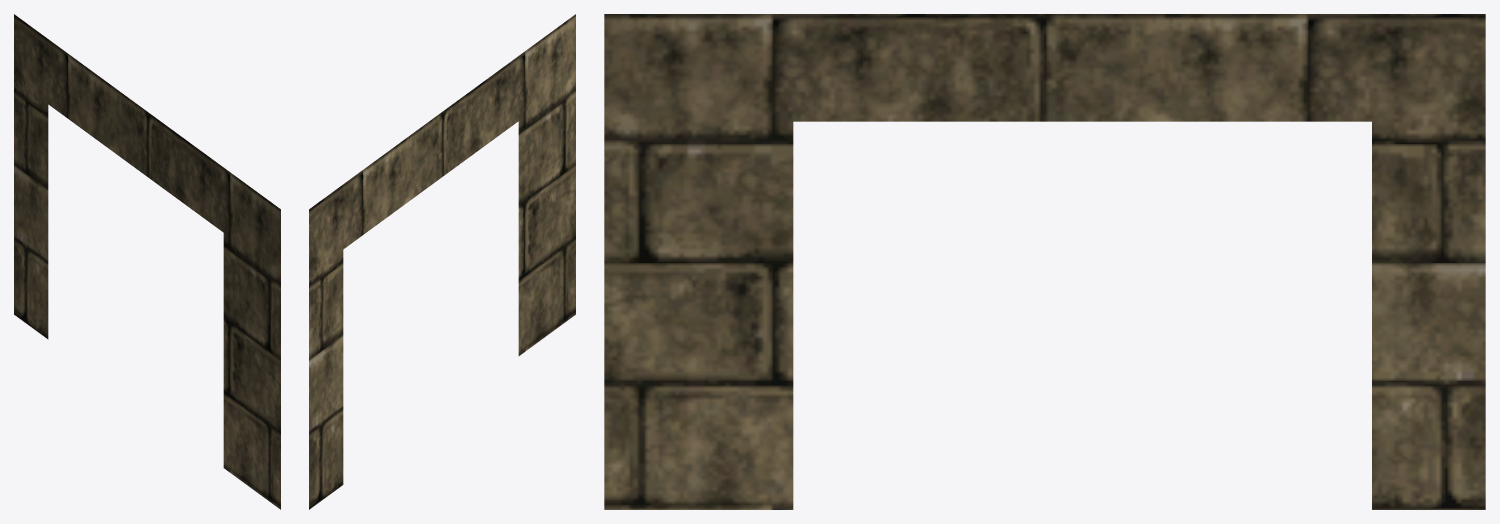
The model's file is OVERHILL_A_01_OBJECT166.fbx.
The picture shows the model from 3 angles, left to right: view 1: azimuth 30°, elevation 25°; view 2: azimuth 150°, elevation 25°; view 3: azimuth 270°, elevation 25°; orthographic projection. The views are drawn at different scales.
Visible parts, largest first — view 1: OVERHILL_A_01_OBJECT166; view 2: OVERHILL_A_01_OBJECT166; view 3: OVERHILL_A_01_OBJECT166.
Boxes of the visible parts, <box> form: OVERHILL_A_01_OBJECT166: <box>14,14,280,509</box>; OVERHILL_A_01_OBJECT166: <box>309,14,575,509</box>; OVERHILL_A_01_OBJECT166: <box>604,14,1485,509</box>.
Size of the model in its own units: 0.0488 by 34378 by 55344.
1 material, 1 textured.
